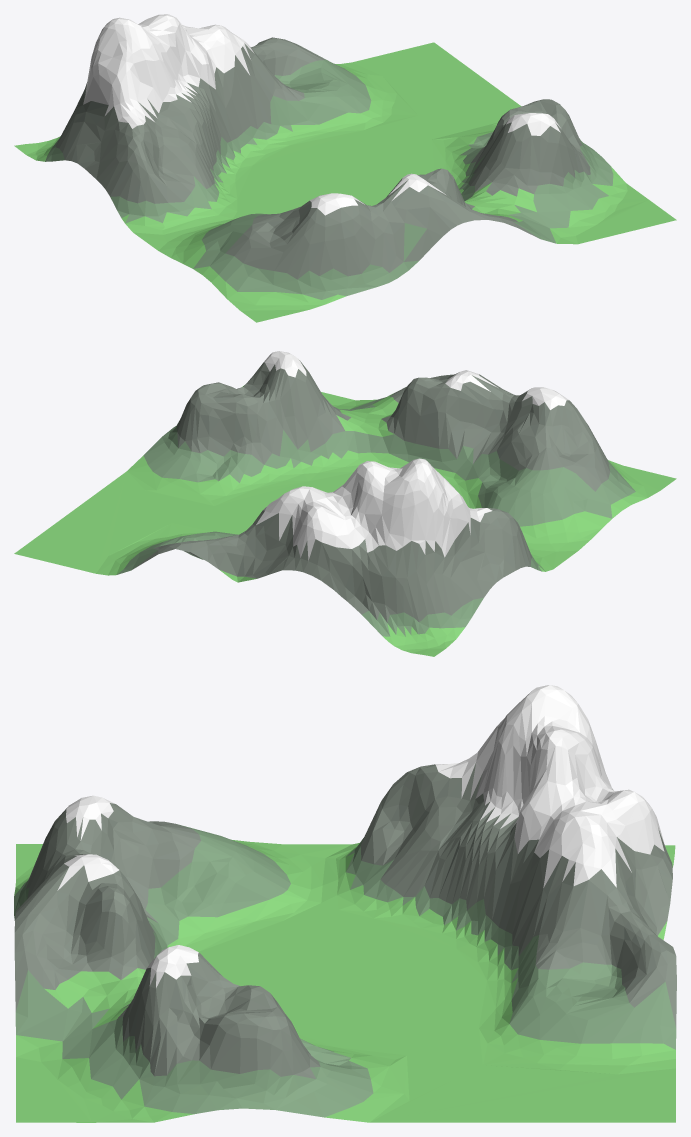
File: map 1.fbx
3 renders of one model, top to bottom at view 1: azimuth 30°, elevation 25°; view 2: azimuth 150°, elevation 25°; view 3: azimuth 270°, elevation 25°, orthographic. The views are drawn at different scales.
Parts seen in each view (by area): view 1: Grid; view 2: Grid; view 3: Grid.
Part boxes in pixels (bbox=[...]): Grid: bbox=[14, 14, 676, 322]; Grid: bbox=[14, 351, 676, 656]; Grid: bbox=[14, 685, 676, 1122].
Size of the model in its own units: 100 by 33.82 by 100.
